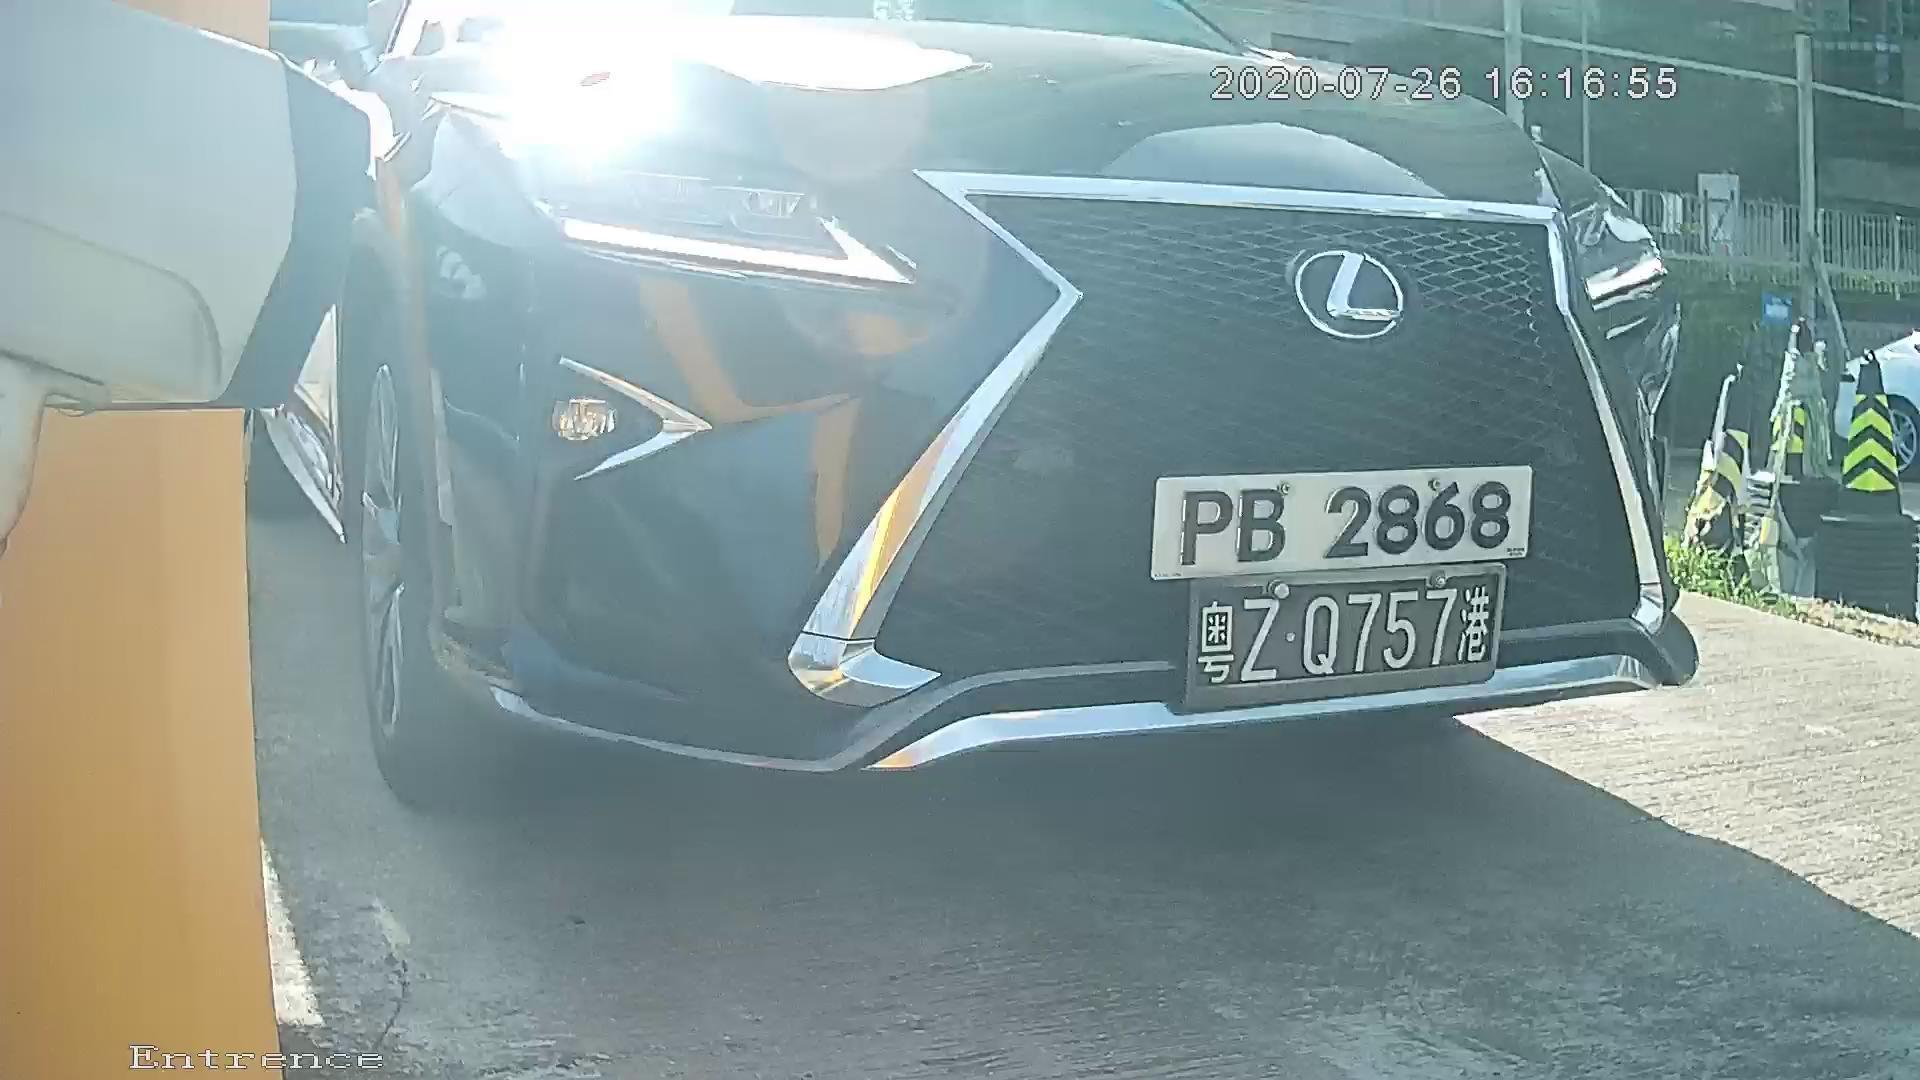privatecar: (249, 1, 1783, 891)
